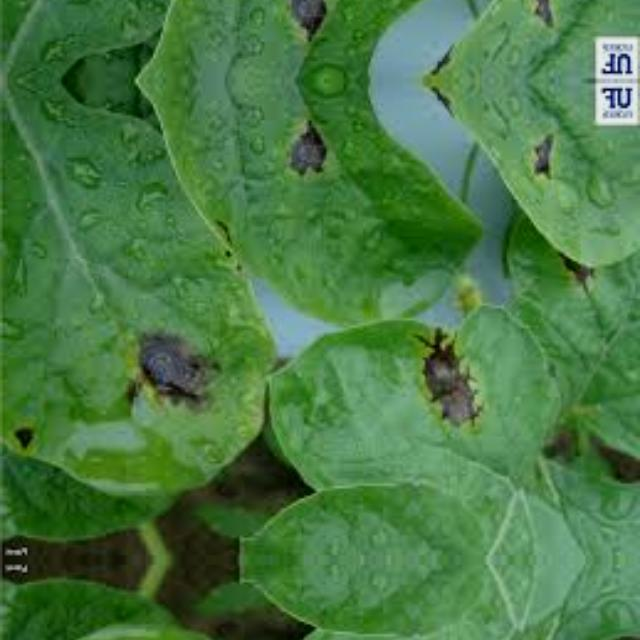Downy_mildew: (0, 188, 252, 490), (186, 86, 438, 312), (298, 335, 530, 483), (469, 80, 598, 256), (186, 0, 438, 73), (470, 0, 599, 80), (0, 627, 252, 640), (298, 636, 531, 640)
